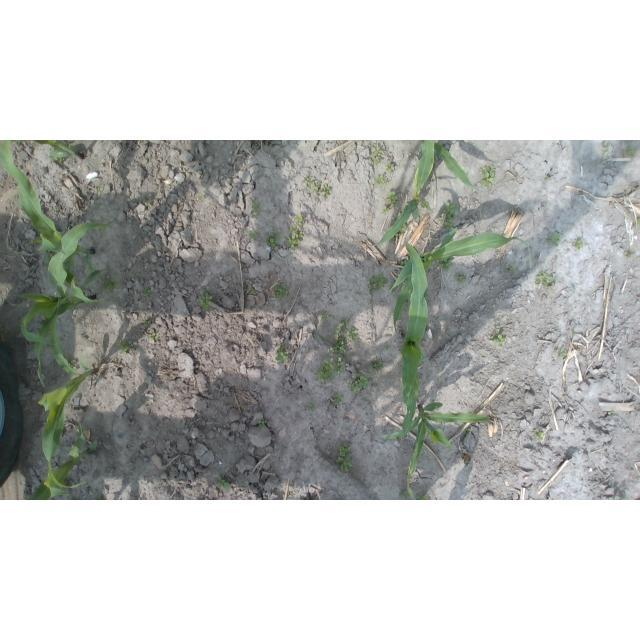Maize: (1, 140, 108, 304), (389, 225, 533, 335), (17, 217, 108, 391), (37, 298, 99, 491), (383, 403, 495, 500), (373, 140, 435, 245), (400, 240, 429, 440), (27, 427, 98, 500), (420, 140, 482, 192), (12, 140, 84, 160)
Weeds: (335, 444, 353, 473), (439, 202, 456, 231), (315, 358, 336, 381), (535, 271, 558, 292), (348, 373, 372, 392), (479, 164, 496, 188), (368, 272, 388, 292), (284, 231, 304, 250), (330, 337, 348, 356), (266, 230, 280, 251), (332, 318, 348, 336), (199, 290, 214, 308), (372, 144, 385, 164), (276, 344, 289, 364), (272, 284, 289, 299), (115, 340, 131, 354), (104, 280, 121, 293), (42, 252, 55, 269), (217, 475, 232, 489), (305, 177, 320, 191), (439, 257, 454, 271), (386, 192, 399, 207), (548, 232, 561, 246), (490, 334, 504, 346), (624, 145, 639, 156), (320, 184, 332, 197), (555, 348, 567, 361), (375, 175, 389, 186), (533, 428, 545, 440), (336, 357, 344, 372), (348, 328, 358, 340), (308, 400, 317, 413), (296, 214, 305, 227), (67, 360, 77, 371), (372, 359, 382, 370), (250, 203, 260, 213), (249, 228, 260, 237), (386, 163, 395, 174), (576, 239, 584, 251), (333, 396, 343, 405), (456, 276, 466, 285), (50, 156, 64, 162), (258, 420, 267, 429), (381, 206, 390, 215), (508, 264, 517, 273), (248, 284, 256, 294), (143, 316, 151, 326), (399, 257, 409, 265), (75, 424, 81, 436), (320, 312, 328, 321), (390, 233, 400, 240), (601, 147, 608, 157), (613, 496, 629, 500), (144, 289, 153, 296), (149, 333, 158, 340), (398, 210, 405, 219), (463, 428, 472, 435), (96, 187, 104, 193), (146, 197, 152, 205), (399, 492, 407, 498), (416, 496, 428, 500), (401, 224, 407, 232), (290, 225, 296, 232), (494, 325, 501, 331), (627, 251, 634, 257), (635, 217, 640, 224), (556, 325, 561, 331), (95, 496, 102, 500), (611, 411, 617, 415), (389, 283, 393, 289), (546, 175, 551, 179), (199, 192, 203, 196), (400, 353, 402, 357)
